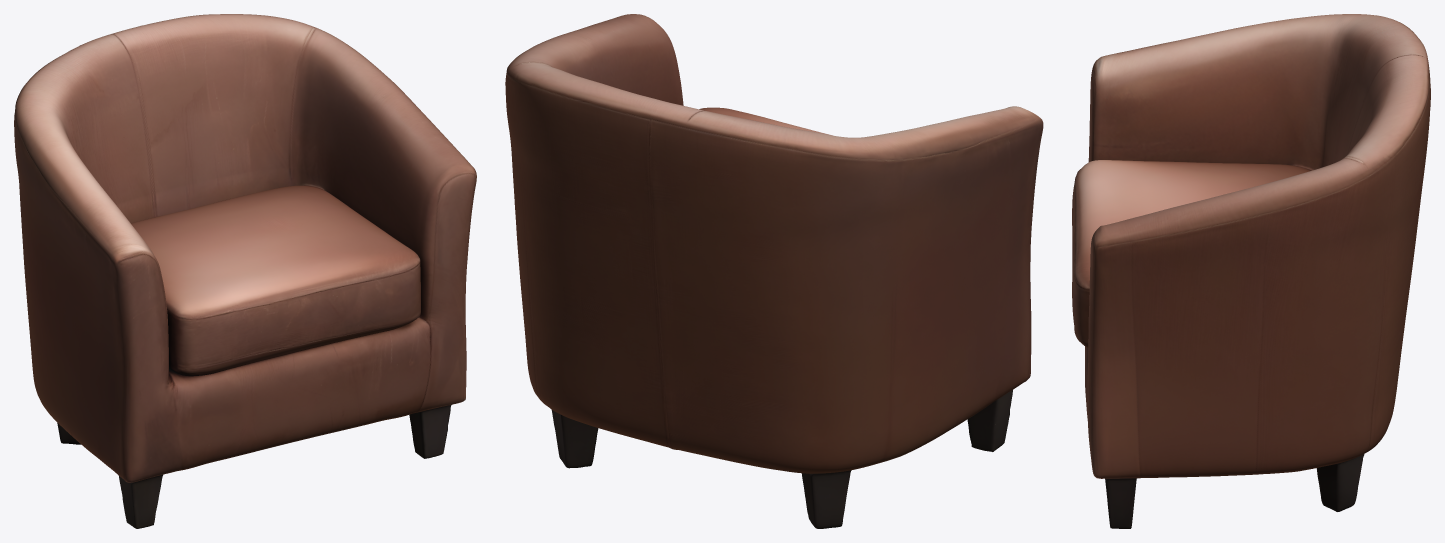
The model's file is 单人沙发 (2).fbx.
The picture shows the model from 3 angles, left to right: view 1: azimuth 30°, elevation 25°; view 2: azimuth 150°, elevation 25°; view 3: azimuth 270°, elevation 25°; orthographic projection. The views are drawn at different scales.
Visible parts, largest first — view 1: model; view 2: model; view 3: model.
Part boxes in pixels (bbox=[...]): model: bbox=[14, 14, 476, 528]; model: bbox=[505, 14, 1043, 528]; model: bbox=[1072, 14, 1430, 528].
Bounding box in the file's own units: 182 × 172 × 147.
1 material, 1 textured.
